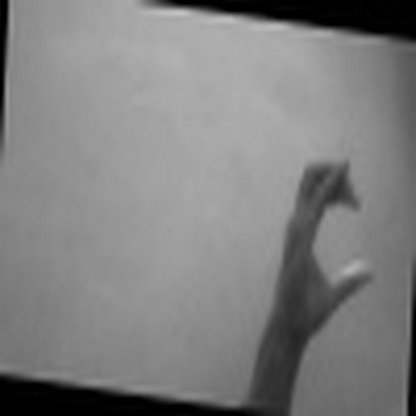c: (275, 148, 376, 333)
